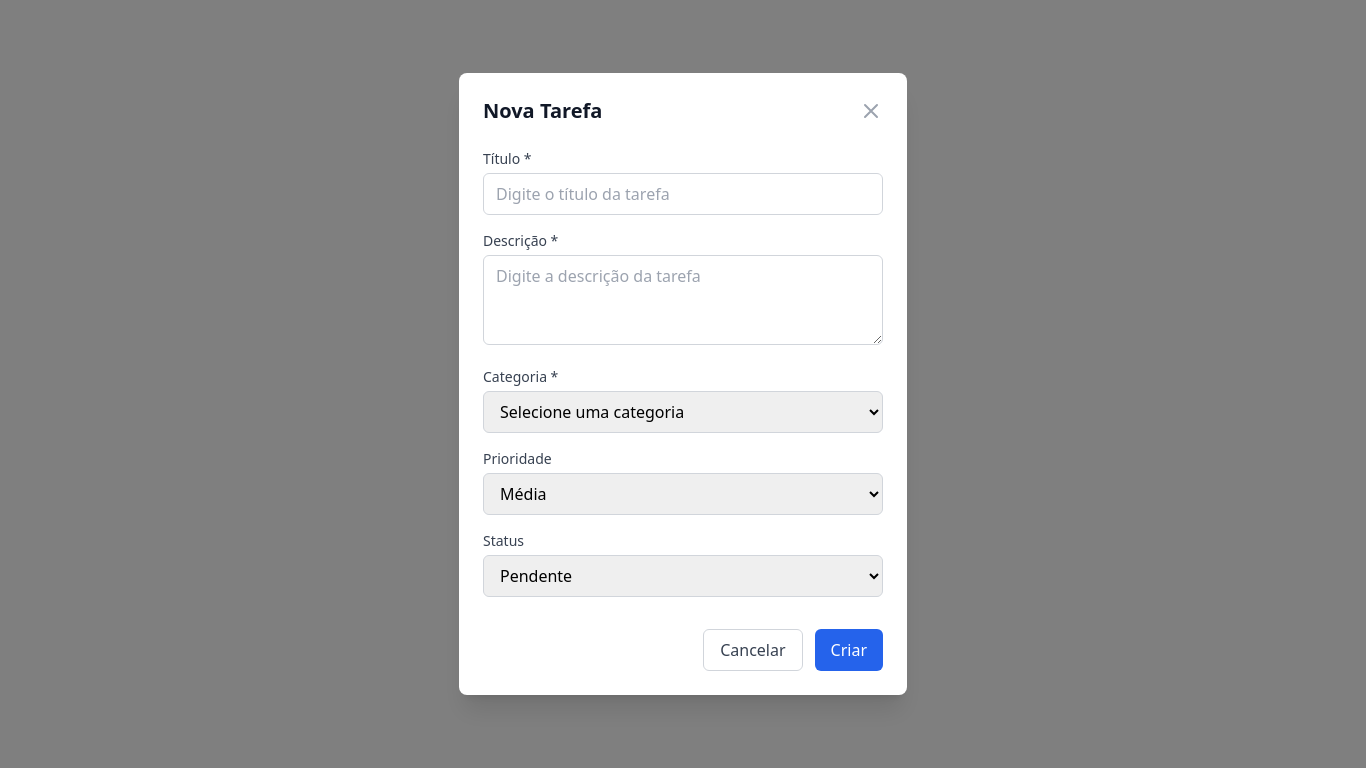
Scenario: TaskForm › Validation › displays validation errors for required fields
Click the button "Criar" at point(849, 650), box [815, 629, 883, 671]
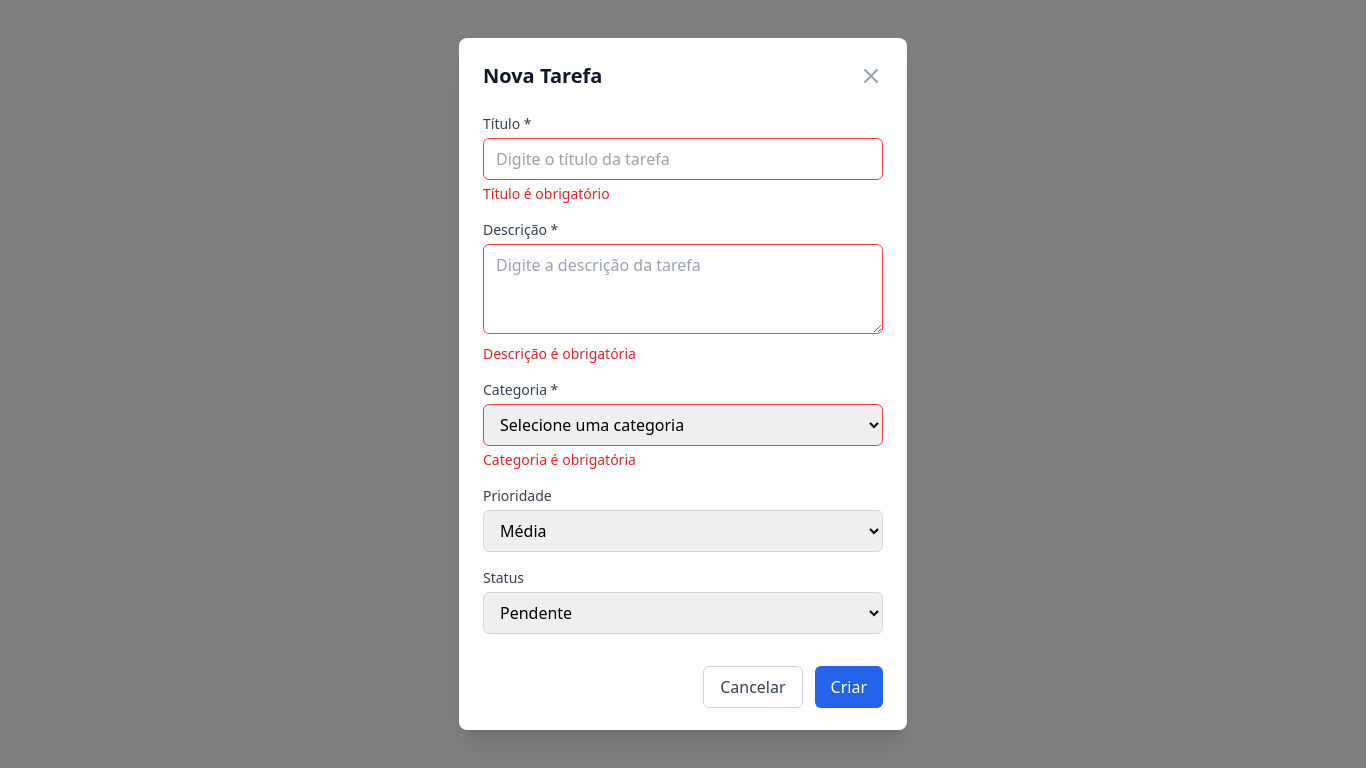
Expected: the text "Título é obrigatório" is shown, [483, 184, 610, 203]
Expected: the text "Descrição é obrigatória" is shown, [483, 344, 636, 363]
Expected: the text "Categoria é obrigatória" is shown, [483, 450, 636, 469]
